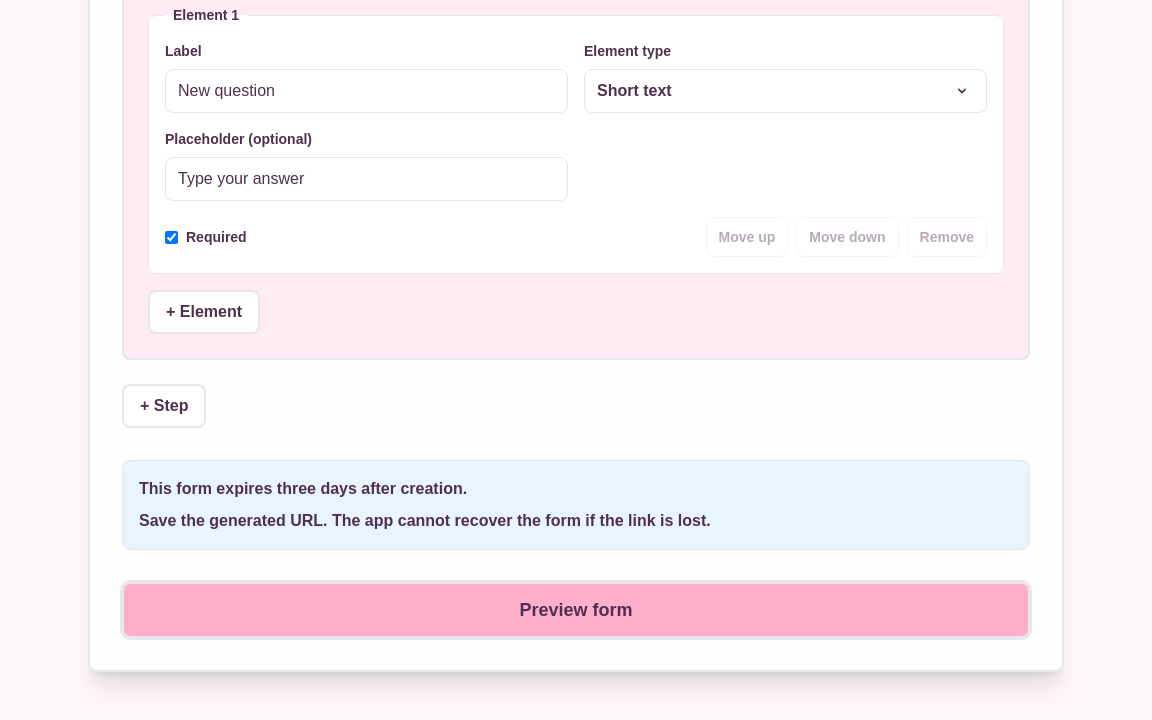
creator verification and publication › prevents an unverified creator from publishing
(page scrolled)
Step 1. Click the button "Preview form" → point(576, 610), box 122,582 -> 1030,638
(page scrolled)
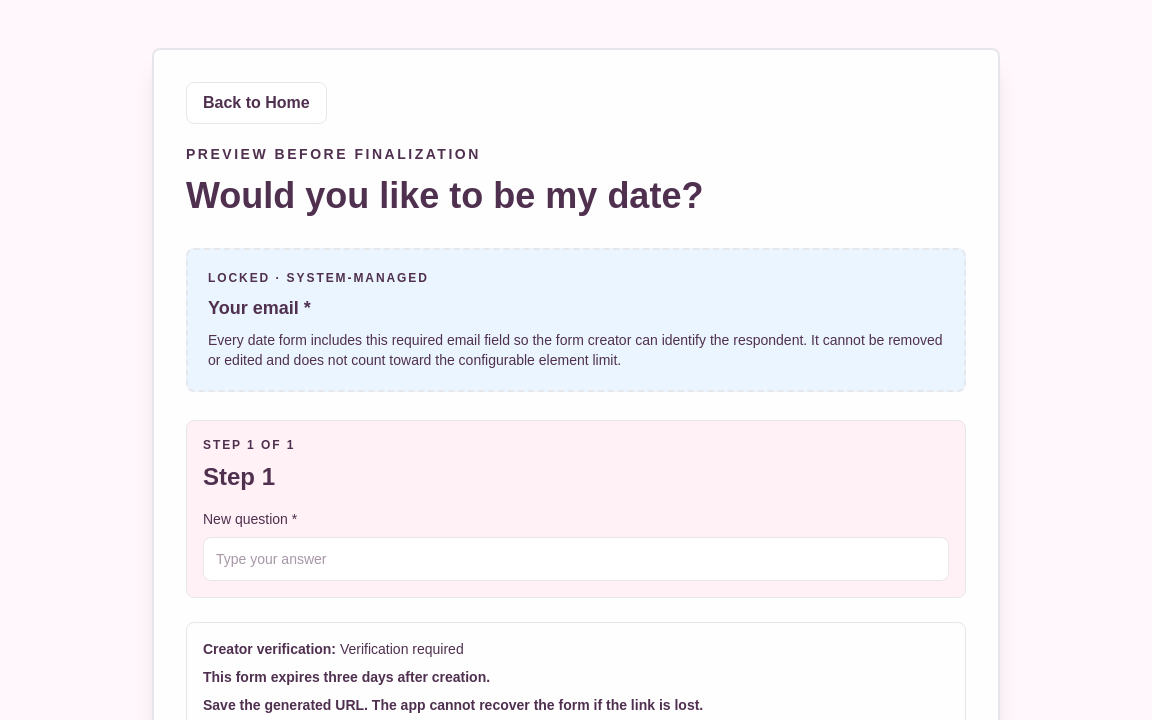
Expected: the button "Back to Home" is shown, 186,82 -> 327,124
Expected: the text "Preview before finalization" is shown, 186,146 -> 481,162
